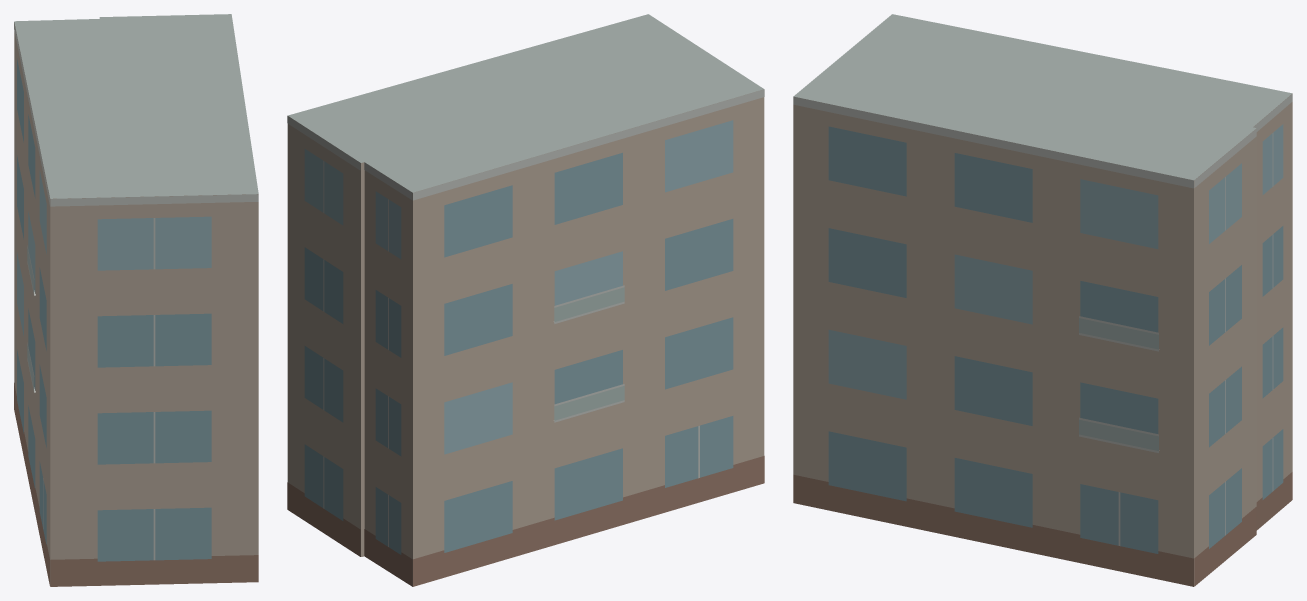
The model's file is survey-upis-32932582.glb.
3 views of the same model, side by side, from view 1: azimuth 30°, elevation 25°; view 2: azimuth 150°, elevation 25°; view 3: azimuth 270°, elevation 25° (orthographic). The views are drawn at different scales.
Parts seen in each view (by area): view 1: survey-upis-32932582.tmp; view 2: survey-upis-32932582.tmp; view 3: survey-upis-32932582.tmp.
Part boxes in pixels (left/top/right/bottom): survey-upis-32932582.tmp: left=14, top=14, right=258, bottom=586; survey-upis-32932582.tmp: left=287, top=14, right=764, bottom=586; survey-upis-32932582.tmp: left=793, top=14, right=1292, bottom=586.
Bounding box in the file's own units: 10.72 × 12.2 × 13.59.
